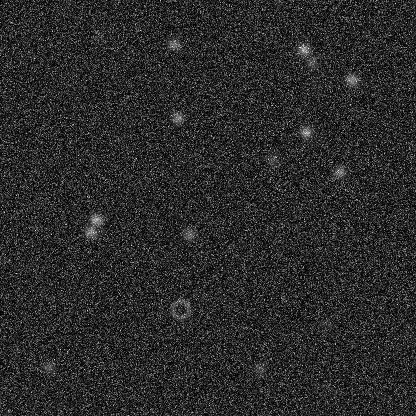Ring: (168, 297, 192, 321)
Spot: (82, 223, 98, 239), (298, 124, 314, 140), (303, 54, 319, 70), (343, 71, 359, 87), (295, 41, 311, 57), (331, 164, 347, 180), (169, 109, 185, 125), (88, 211, 104, 227), (91, 28, 107, 44), (166, 36, 182, 52), (264, 152, 280, 168), (180, 225, 196, 241), (325, 384, 341, 400), (40, 359, 56, 375), (305, 76, 321, 92), (251, 360, 267, 376), (318, 314, 334, 330)
